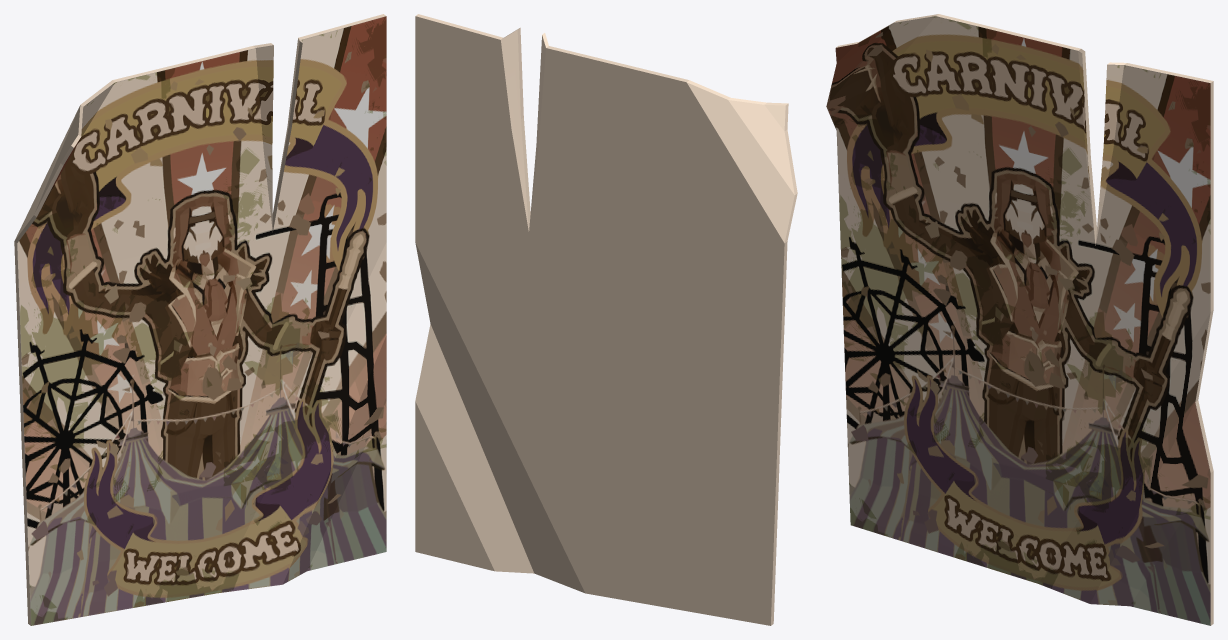
The model's file is SM_Prop_Sign_Poster_02.fbx.
3 renders of one model, left to right at view 1: azimuth 30°, elevation 25°; view 2: azimuth 150°, elevation 25°; view 3: azimuth 330°, elevation 25°, orthographic.
Parts seen in each view (by area): view 1: SM_Prop_Sign_Poster_02; view 2: SM_Prop_Sign_Poster_02; view 3: SM_Prop_Sign_Poster_02.
Part boxes in pixels (<box>): SM_Prop_Sign_Poster_02: <box>14,14,386,625</box>; SM_Prop_Sign_Poster_02: <box>415,14,797,625</box>; SM_Prop_Sign_Poster_02: <box>826,14,1213,625</box>.
Bounding box in the file's own units: 91.86 × 129 × 13.73.
